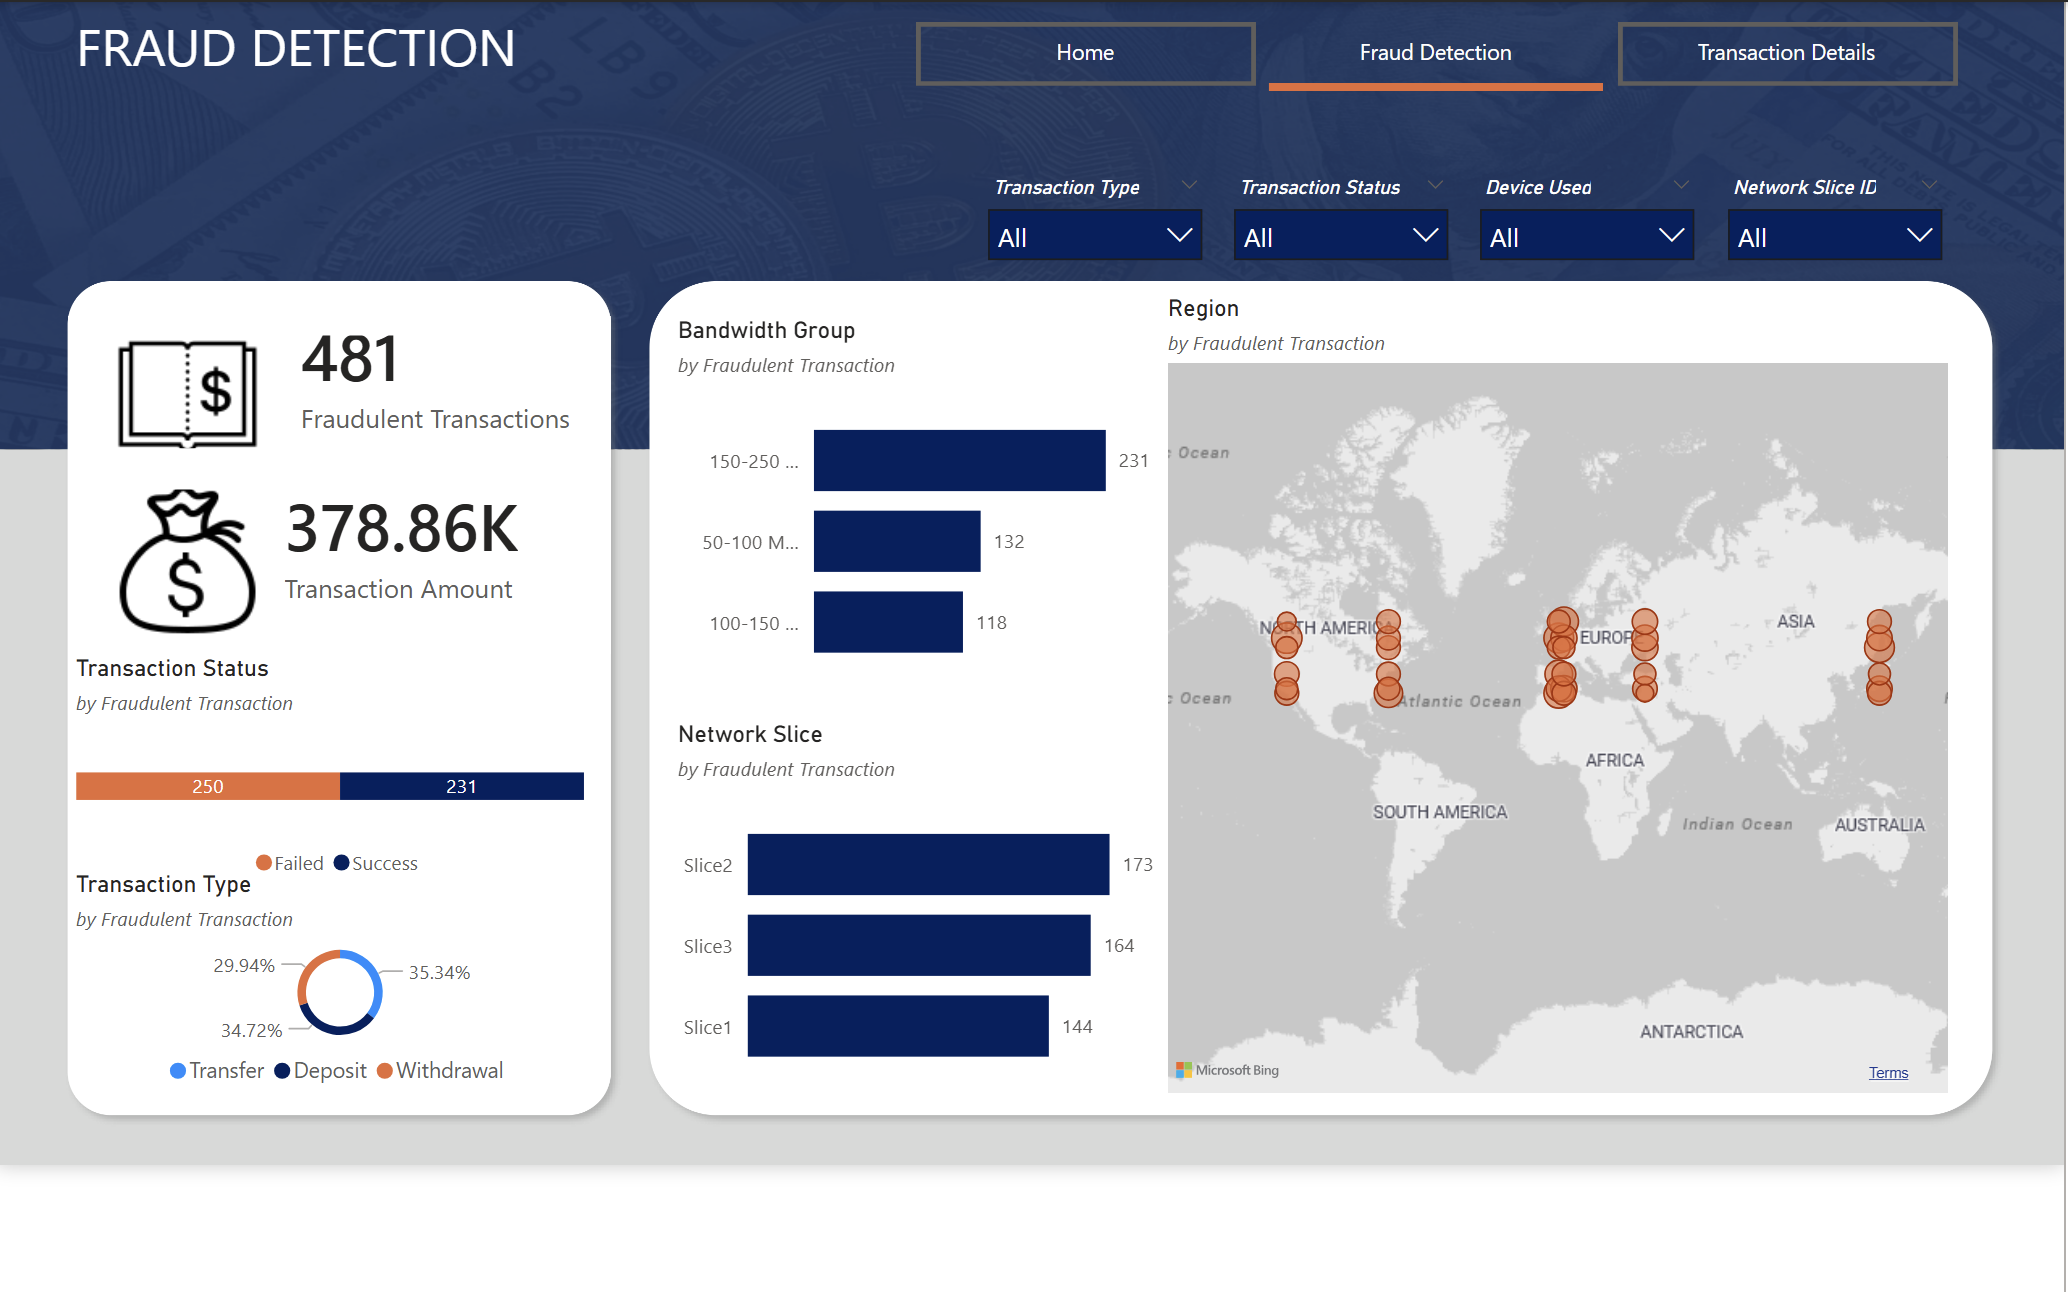

The dashboard page shown, as its layout file describes it:
{"tool":"powerbi","page":{"name":"Fraud Detection","canvas":[1280,720],"ordinal":1},"visuals":[{"type":"cardVisual","fields":{"Data":["bank transaction_data.Total Transactions"]},"box":[44.7,194.7,336.8,94.7],"z":0},{"type":"cardVisual","fields":{"Data":["bank transaction_data.Total Transaction Amount"]},"box":[44.7,289.4,336.8,114.5],"z":1000},{"type":"barChart","title":"Transaction Status","fields":{"Series":["bank transaction_data.Transaction Status"],"Y":["bank transaction_data.Total Transactions"]},"box":[44.7,403.9,336.8,147.3],"z":2000},{"type":"donutChart","title":"Transaction Type","fields":{"Y":["bank transaction_data.Total Transactions"],"Category":["bank transaction_data.Transaction Type"]},"box":[44.7,536.7,336.8,143.4],"z":3000},{"type":"map","title":"Region","fields":{"Size":["bank transaction_data.Total Transactions"],"Y":["bank transaction_data.Latitude Value"],"X":["bank transaction_data.Longitude Value"]},"box":[720.9,180.2,493.3,499.9],"z":4000},{"type":"slicer","fields":{"Values":["bank transaction_data.Network Slice ID"]},"box":[1061.6,102.6,152.6,60.5],"z":5000},{"type":"slicer","fields":{"Values":["bank transaction_data.Transaction Type"]},"box":[603.8,102.6,152.6,60.5],"z":6000},{"type":"slicer","fields":{"Values":["bank transaction_data.Transaction Status"]},"box":[756.4,102.6,152.6,60.5],"z":7000},{"type":"slicer","fields":{"Values":["bank transaction_data.Device Used"]},"box":[909,102.6,152.6,60.5],"z":8000},{"type":"textbox","box":[44.7,0,471,56.6],"z":9000},{"type":"barChart","title":"Bandwidth Group","fields":{"Y":["bank transaction_data.Total Transactions"],"Category":["bank transaction_data.Bandwidth Group"]},"box":[417,194.7,305.2,235.5],"z":10000},{"type":"barChart","title":"Network Slice","fields":{"Y":["bank transaction_data.Total Transactions"],"Category":["bank transaction_data.Network Slice ID"]},"box":[417,444.6,305.2,235.5],"z":11000},{"type":"pageNavigator","box":[570.9,6.6,643.3,50],"z":12000},{"type":"actionButton","box":[569.4,12.4,210.4,39.6],"z":13000},{"type":"actionButton","box":[1003.9,12.4,210.4,39.6],"z":14000}]}

Visuals, with their boxes on the page's 1280x720 design canvas (x1, y1, x2, y2). These are canvas units, not pixel positions in the 2068x1292 screenshot, which may show the page scaled, cropped or inside an application window:
cardVisual - bank transaction_data.Total Transactions: bbox(45, 195, 382, 289)
cardVisual - bank transaction_data.Total Transaction Amount: bbox(45, 289, 382, 404)
"Transaction Status" barChart: bbox(45, 404, 382, 551)
"Transaction Type" donutChart: bbox(45, 537, 382, 680)
"Region" map: bbox(721, 180, 1214, 680)
slicer - bank transaction_data.Network Slice ID: bbox(1062, 103, 1214, 163)
slicer - bank transaction_data.Transaction Type: bbox(604, 103, 756, 163)
slicer - bank transaction_data.Transaction Status: bbox(756, 103, 909, 163)
slicer - bank transaction_data.Device Used: bbox(909, 103, 1062, 163)
textbox: bbox(45, 0, 516, 57)
"Bandwidth Group" barChart: bbox(417, 195, 722, 430)
"Network Slice" barChart: bbox(417, 445, 722, 680)
pageNavigator: bbox(571, 7, 1214, 57)
actionButton: bbox(569, 12, 780, 52)
actionButton: bbox(1004, 12, 1214, 52)
